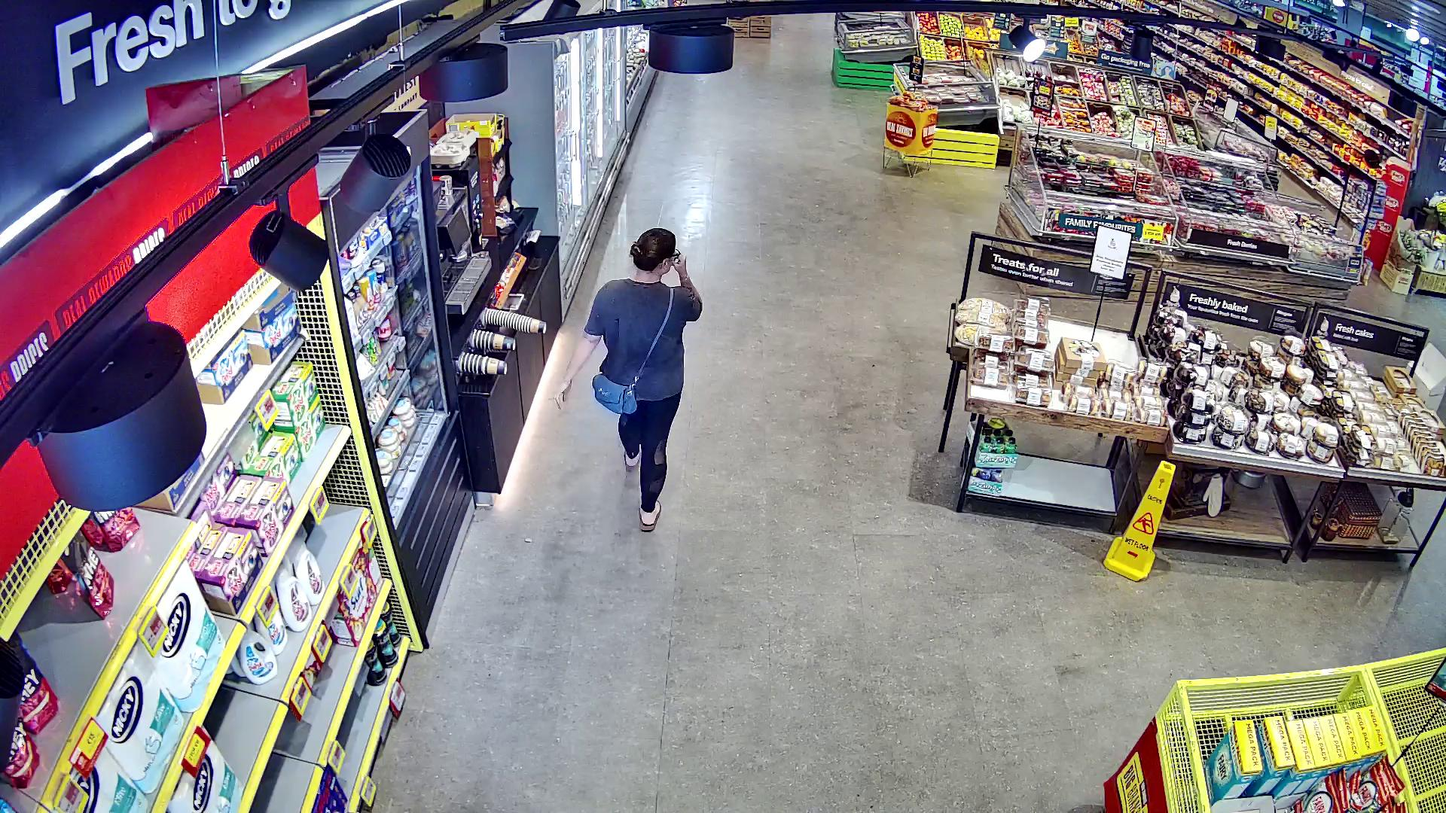backpack-or-handbag: (593, 373, 639, 415)
person: (554, 227, 704, 534)
person-with-backpack-handbag: (554, 228, 704, 534)
